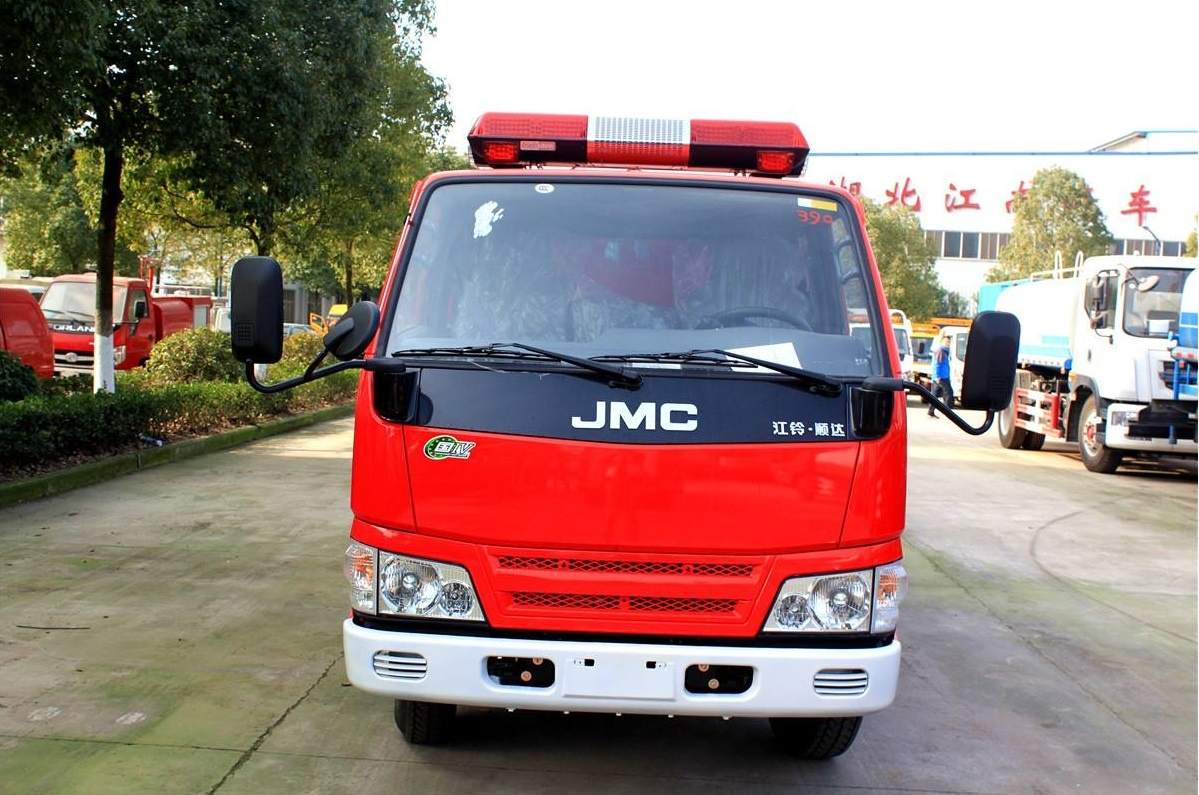fire engine: (302, 83, 952, 766)
